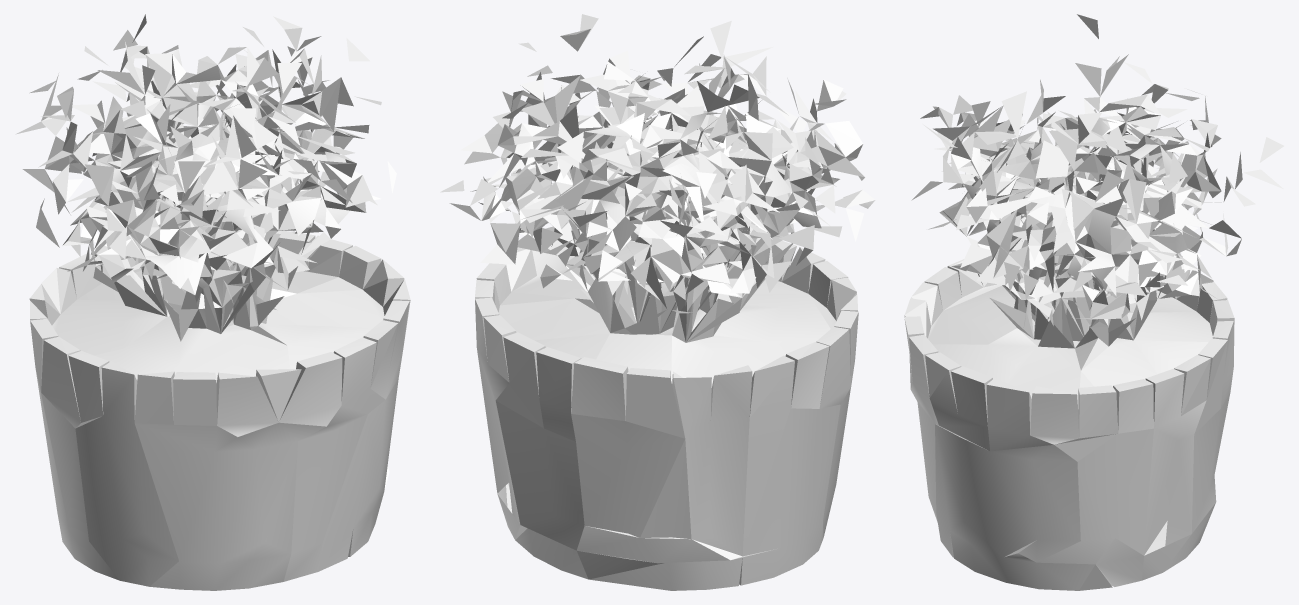
Rendered from tub_plant.glb.
3 renders of one model, left to right at view 1: azimuth 30°, elevation 25°; view 2: azimuth 150°, elevation 25°; view 3: azimuth 270°, elevation 25°, orthographic. The views are drawn at different scales.
Visible parts, largest first — view 1: Mesh_0; view 2: Mesh_0; view 3: Mesh_0.
Boxes of the visible parts, x1,y1,x2,y2 form: Mesh_0: [15, 14, 410, 590]; Mesh_0: [440, 14, 875, 590]; Mesh_0: [904, 14, 1283, 590].
Bounding box in the file's own units: 0.832 × 1.2 × 0.8565.
1 material, 1 textured.
